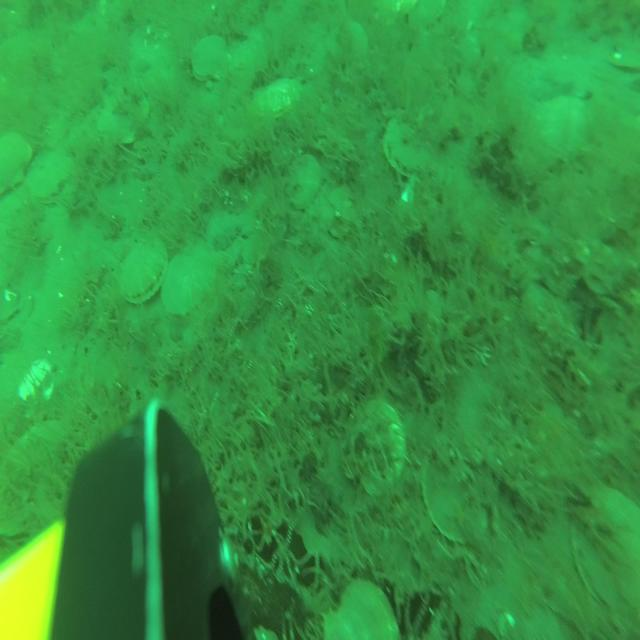scallop: (570, 484, 640, 606), (419, 438, 485, 538), (320, 577, 398, 640), (351, 399, 402, 483), (157, 246, 217, 317), (115, 236, 169, 302), (383, 119, 436, 178), (96, 91, 150, 147), (252, 80, 302, 124), (193, 34, 232, 84), (0, 133, 31, 193), (286, 150, 320, 203), (20, 361, 53, 406), (405, 0, 445, 34)
